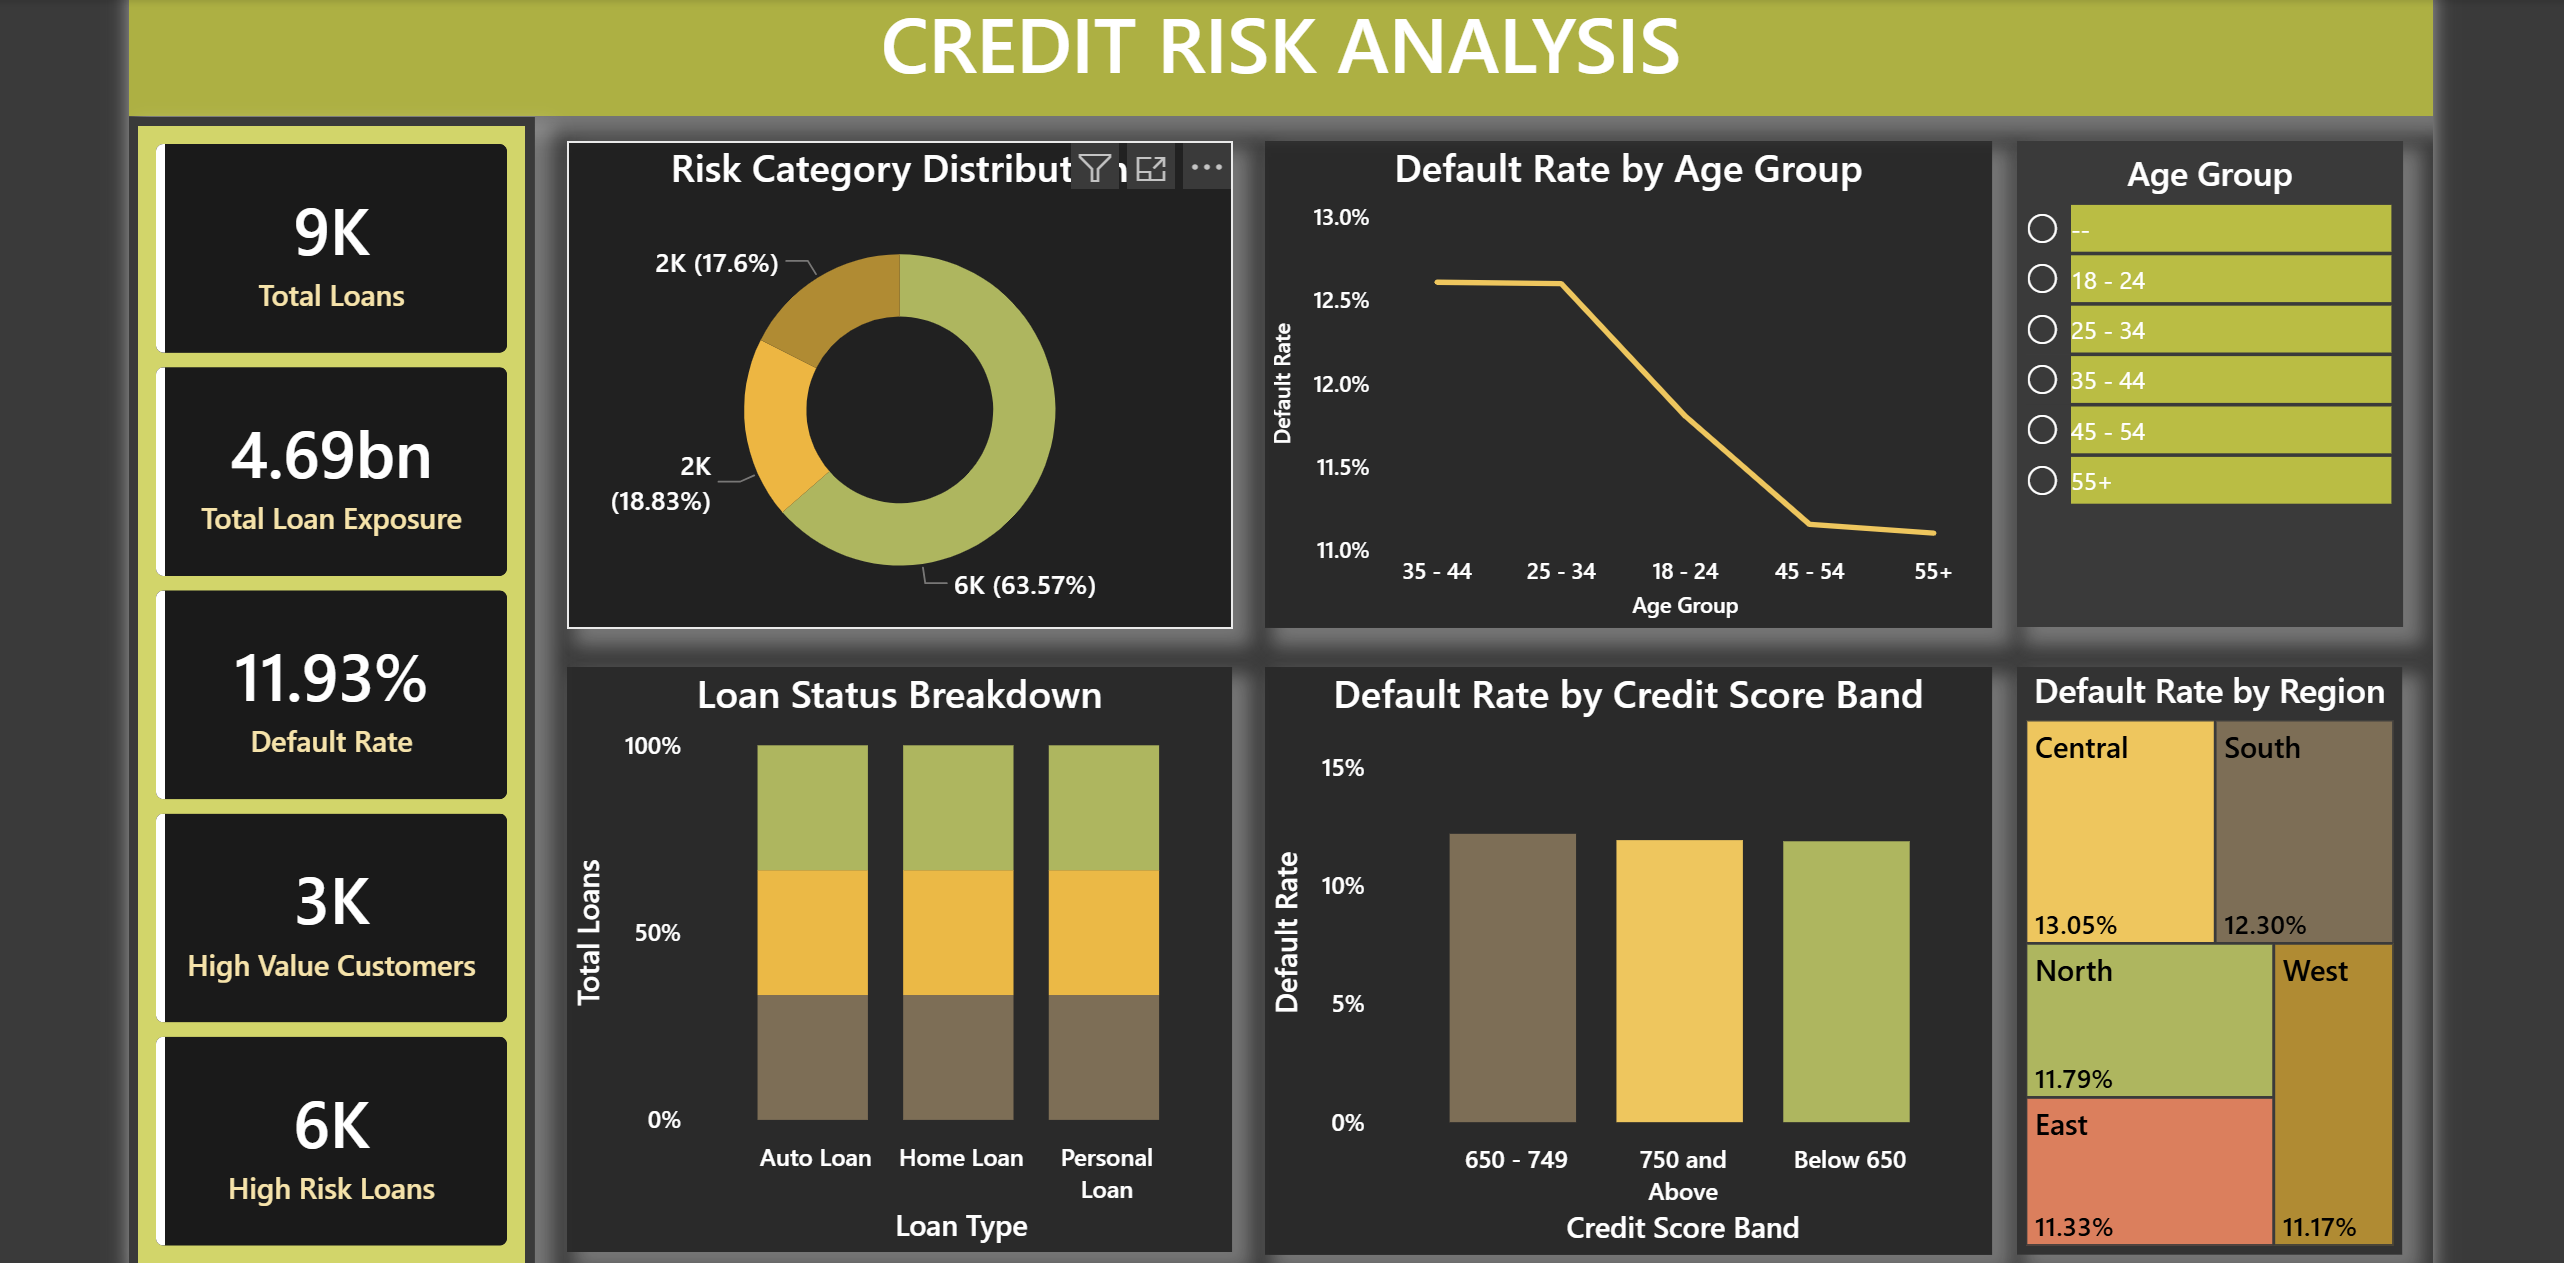

The dashboard page shown, as its layout file describes it:
{"tool":"powerbi","page":{"name":"Page 1","canvas":[1280,720],"ordinal":0},"visuals":[{"type":"textbox","box":[0,0,1280,75.2],"z":0},{"type":"cardVisual","fields":{"Data":["CATEGORY.TOTAL LOANS","CATEGORY.Total Loan Exposure","LOAN_DEFAULT_DATA.Default Rate","HIGH_VALUE_CUSTOMER.High Value Customers","CATEGORY.High Risk CUstomers"]},"box":[0,75.2,225.7,645.1],"z":1000},{"type":"donutChart","title":"Risk Category Distribution","fields":{"Category":["CATEGORY.RISK_CATEGORY"],"Y":["CATEGORY.TOTAL LOANS"]},"box":[243.5,89.2,369.7,270.3],"z":2000},{"type":"hundredPercentStackedColumnChart","title":"Loan Status Breakdown","fields":{"Category":["CUSTOMER_DATA.LOAN_TYPE"],"Series":["CUSTOMER_DATA.LOAN_STATUS"],"Y":["CATEGORY.TOTAL LOANS"]},"box":[243.5,381.2,369.7,325.1],"z":3000},{"type":"clusteredColumnChart","fields":{"Category":["CUSTOMER.Credit Score Band"],"Y":["LOAN_DEFAULT_DATA.Default Rate"]},"box":[631.1,381.2,404.1,326.4],"z":4000},{"type":"lineChart","fields":{"Category":["CUSTOMER.Age Group"],"Y":["LOAN_DEFAULT_DATA.Default Rate"]},"box":[631.1,89.2,404.1,270.3],"z":5000},{"type":"treemap","title":"Default Rate by Region","fields":{"Group":["CUSTOMER.REGION"],"Values":["LOAN_DEFAULT_DATA.Default Rate"]},"box":[1049.2,381.2,214.2,326.4],"z":6000},{"type":"listSlicer","fields":{"Values":["CUSTOMER.Age Group"]},"box":[1048.9,88.9,214.4,270],"z":8000}]}

Visuals, with their boxes on the page's 1280x720 design canvas (x1, y1, x2, y2). These are canvas units, not pixel positions in the 2564x1263 screenshot, which may show the page scaled, cropped or inside an application window:
textbox: bbox=[0, 0, 1280, 75]
cardVisual - CATEGORY.TOTAL LOANS x CATEGORY.Total Loan Exposure: bbox=[0, 75, 226, 720]
"Risk Category Distribution" donutChart: bbox=[244, 89, 613, 360]
"Loan Status Breakdown" hundredPercentStackedColumnChart: bbox=[244, 381, 613, 706]
clusteredColumnChart - CUSTOMER.Credit Score Band x LOAN_DEFAULT_DATA.Default Rate: bbox=[631, 381, 1035, 708]
lineChart - CUSTOMER.Age Group x LOAN_DEFAULT_DATA.Default Rate: bbox=[631, 89, 1035, 360]
"Default Rate by Region" treemap: bbox=[1049, 381, 1263, 708]
listSlicer - CUSTOMER.Age Group: bbox=[1049, 89, 1263, 359]
